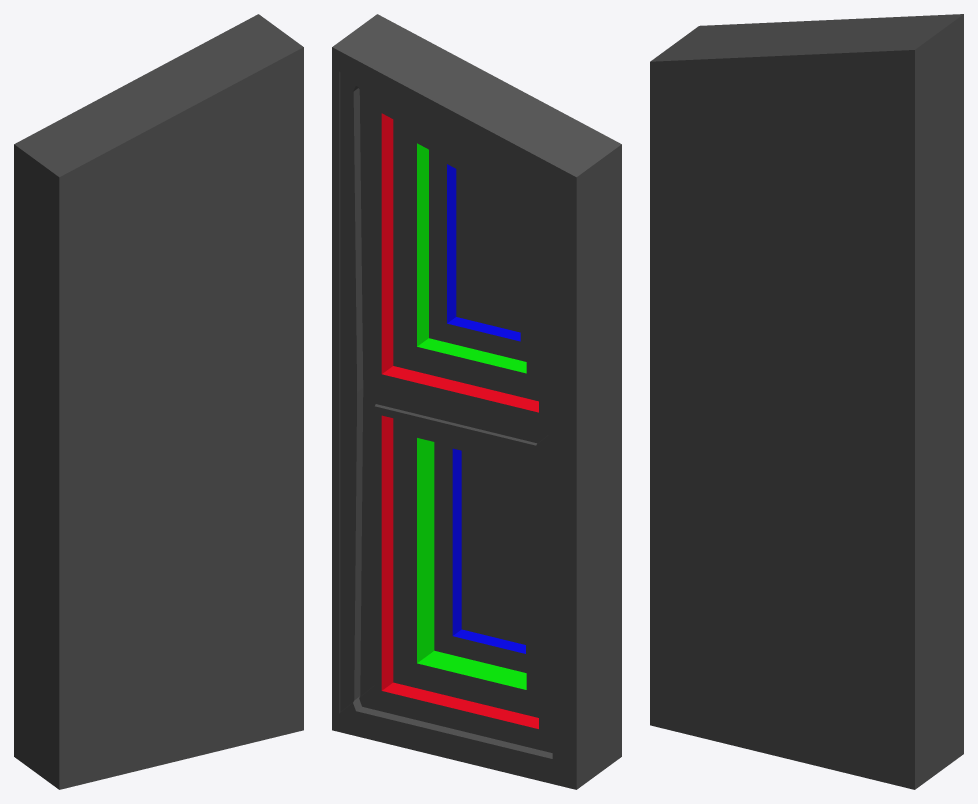
The model's file is Porta.fbx.
The picture shows the model from 3 angles, left to right: view 1: azimuth 30°, elevation 25°; view 2: azimuth 150°, elevation 25°; view 3: azimuth 330°, elevation 25°; orthographic projection. The views are drawn at different scales.
Visible parts, largest first — view 1: Porta; view 2: Porta; view 3: Porta.
Boxes of the visible parts, x1=… form: Porta: x1=14, y1=14, x2=303, y2=789; Porta: x1=332, y1=14, x2=621, y2=789; Porta: x1=650, y1=14, x2=963, y2=789.
Size of the model in its own units: 144 by 384 by 46.17.
